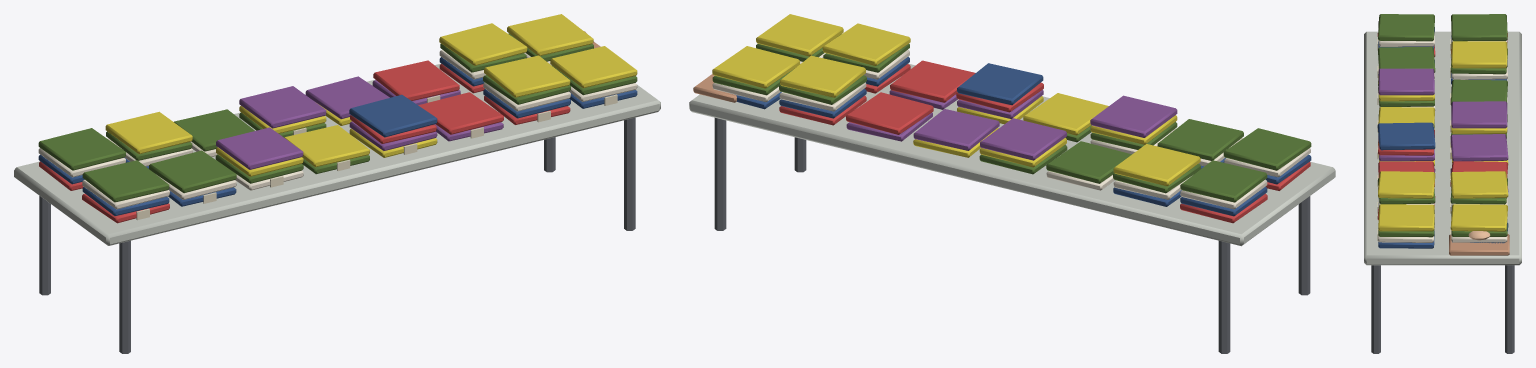
Rendered from folding_table.glb.
3 views of the same model, side by side, from view 1: azimuth 30°, elevation 25°; view 2: azimuth 150°, elevation 25°; view 3: azimuth 270°, elevation 25° (orthographic). The views are drawn at different scales.
Parts seen in each view (by area): view 1: folding_table; view 2: folding_table; view 3: folding_table.
Boxes of the visible parts, x1,y1,x2,y2 form: folding_table: (14, 14, 660, 353); folding_table: (689, 14, 1335, 353); folding_table: (1364, 14, 1521, 353).
Size of the model in its own units: 4.42 by 1.23 by 1.3.
